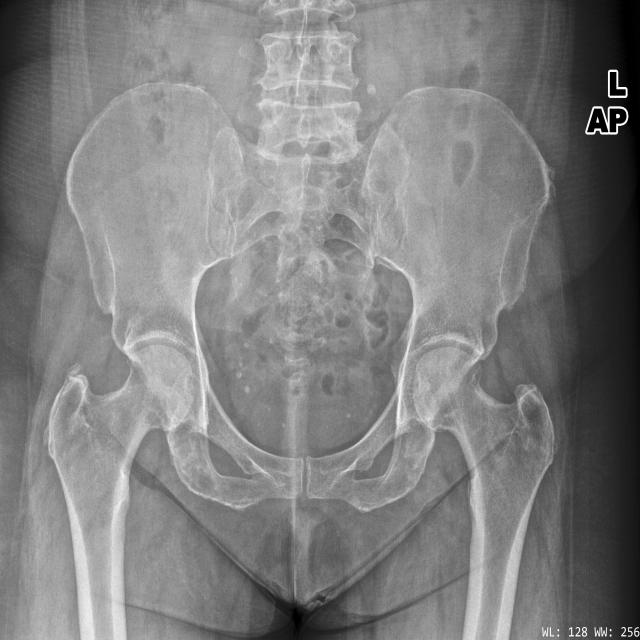normal-left: (413, 346, 555, 640)
normal-right: (48, 344, 195, 640)
